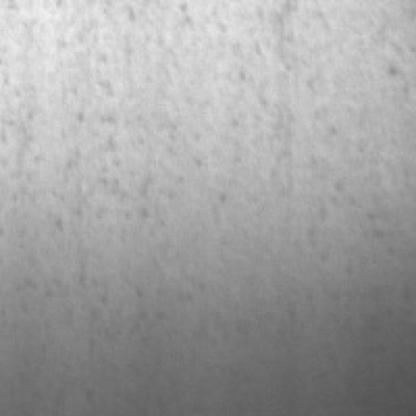pitted_surface: (25, 0, 414, 414)
